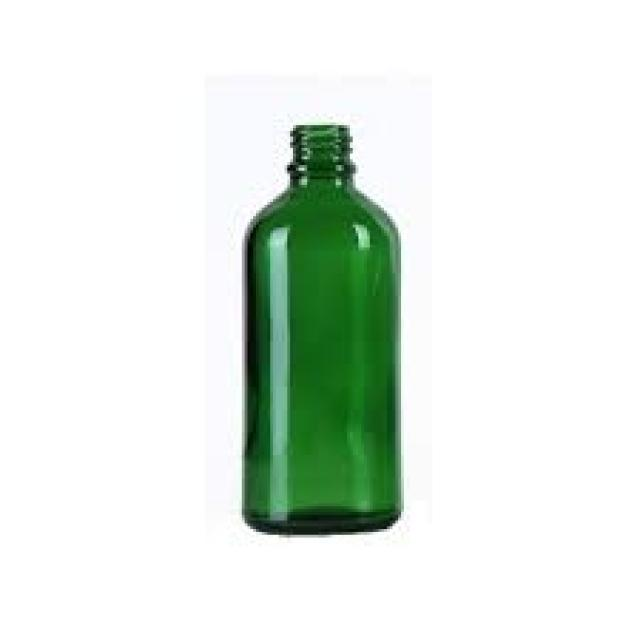glass: (239, 122, 398, 535)
